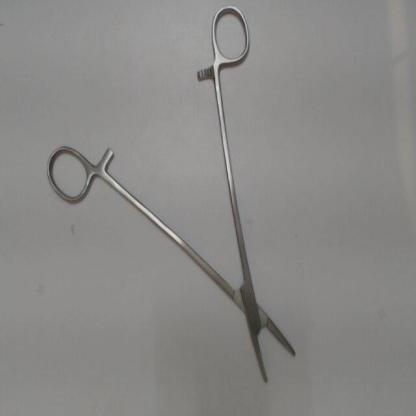8 Mayo Needle Holder: (40, 1, 310, 405)
